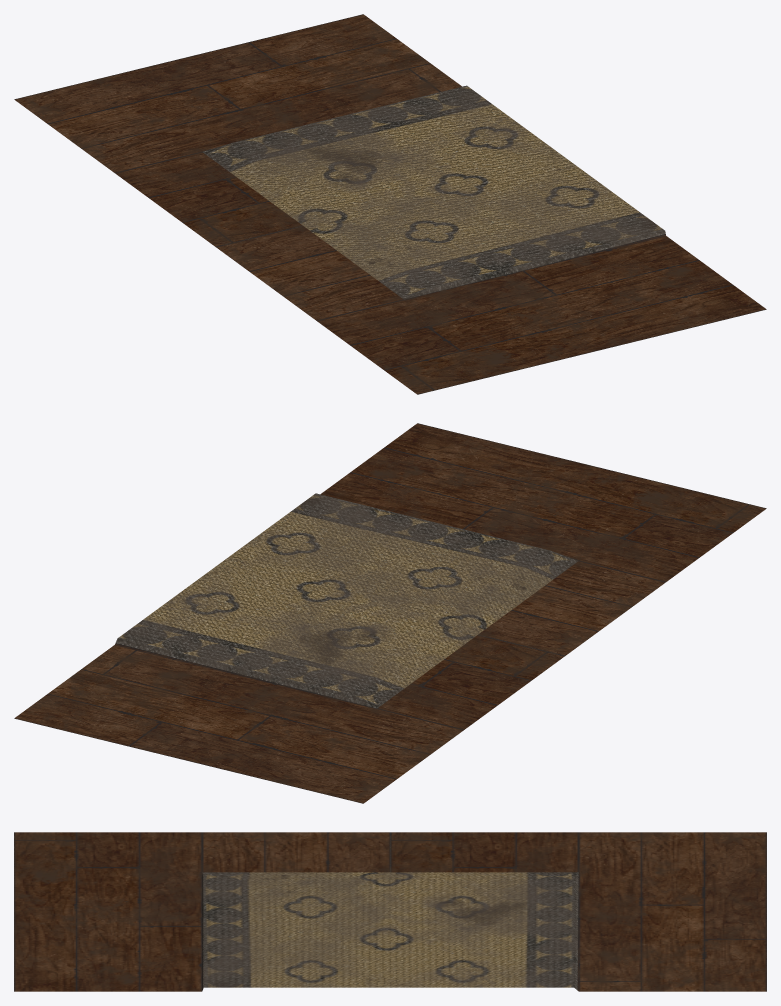
File: SM_Floor_Carpet_End.fbx
The picture shows the model from 3 angles, top to bottom: view 1: azimuth 30°, elevation 25°; view 2: azimuth 150°, elevation 25°; view 3: azimuth 270°, elevation 25°; orthographic projection. The views are drawn at different scales.
Parts seen in each view (by area): view 1: SM_Floor_Carpet_End; view 2: SM_Floor_Carpet_End; view 3: SM_Floor_Carpet_End.
Boxes of the visible parts, x1,y1,x2,y2 form: SM_Floor_Carpet_End: [14, 14, 766, 394]; SM_Floor_Carpet_End: [14, 423, 766, 803]; SM_Floor_Carpet_End: [14, 832, 766, 991].
Size of the model in its own units: 200 by 2.37 by 400.
